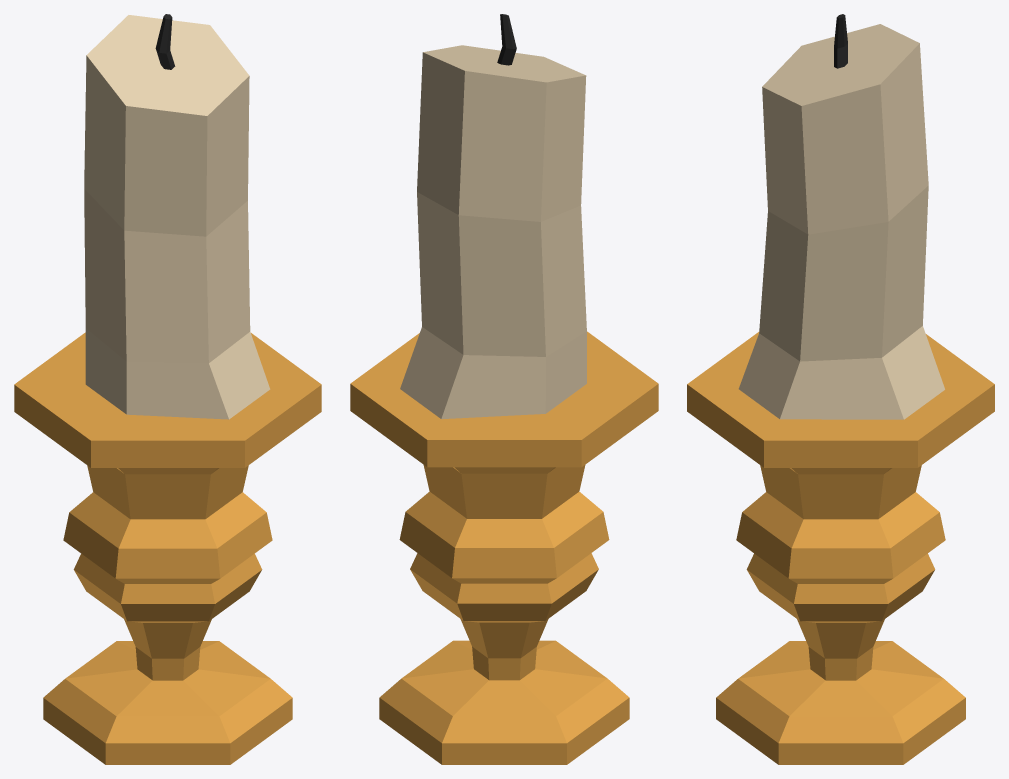
The model's file is Crypt_Candle.glb.
3 renders of one model, left to right at view 1: azimuth 30°, elevation 25°; view 2: azimuth 150°, elevation 25°; view 3: azimuth 270°, elevation 25°, orthographic.
Parts seen in each view (by area): view 1: Candle; view 2: Candle; view 3: Candle.
Boxes of the visible parts, <box> form: Candle: <box>14,14,321,764</box>; Candle: <box>350,14,658,764</box>; Candle: <box>687,14,994,764</box>.
Bounding box in the file's own units: 0.2651 × 0.7728 × 0.306.
